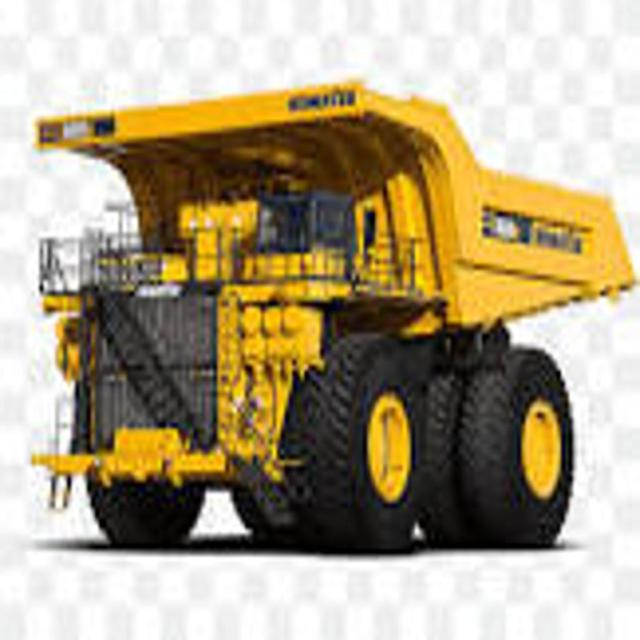dump_truck: (34, 63, 640, 561)
